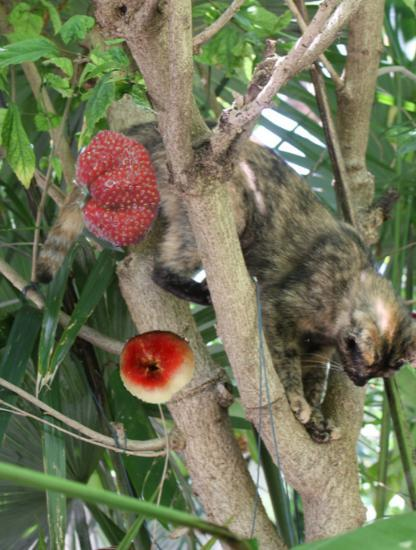Peach: (117, 324, 195, 402)
Strawberry: (55, 129, 173, 247)
